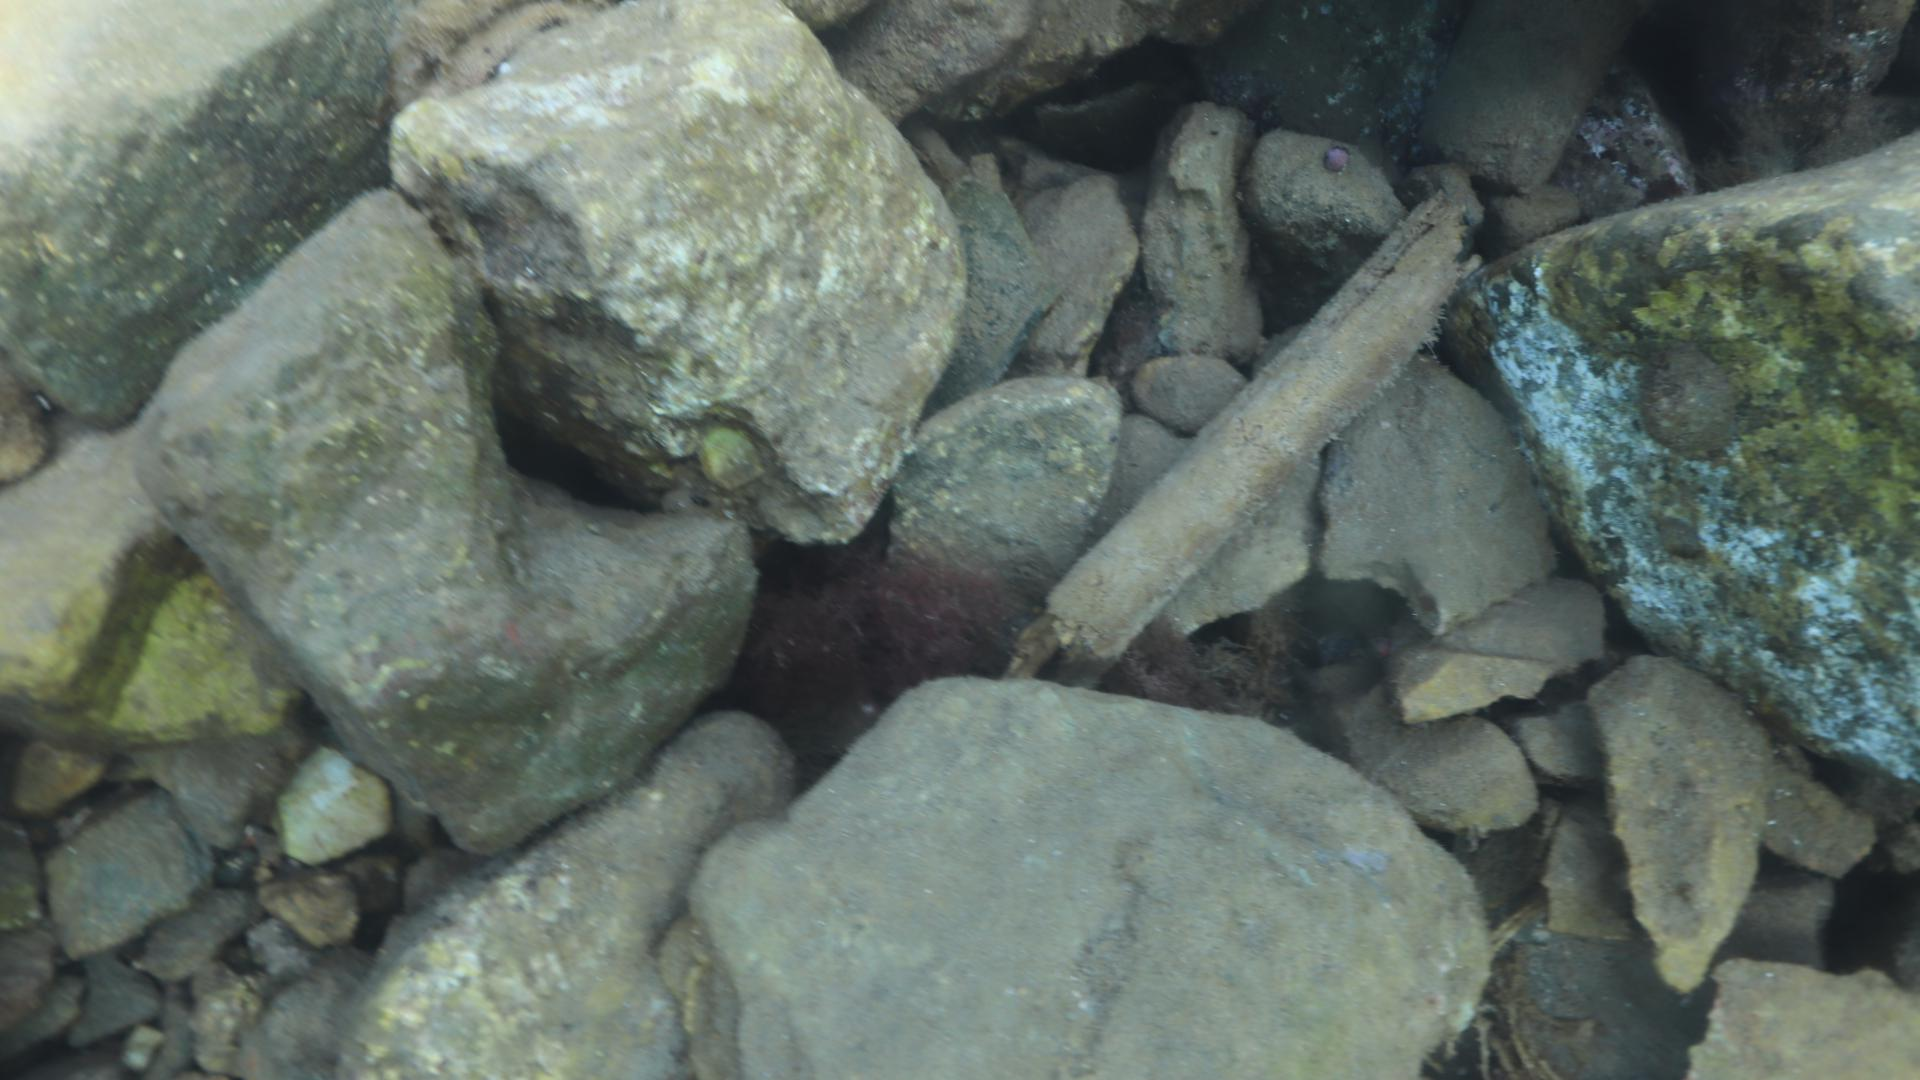wood: (998, 185, 1484, 687)
